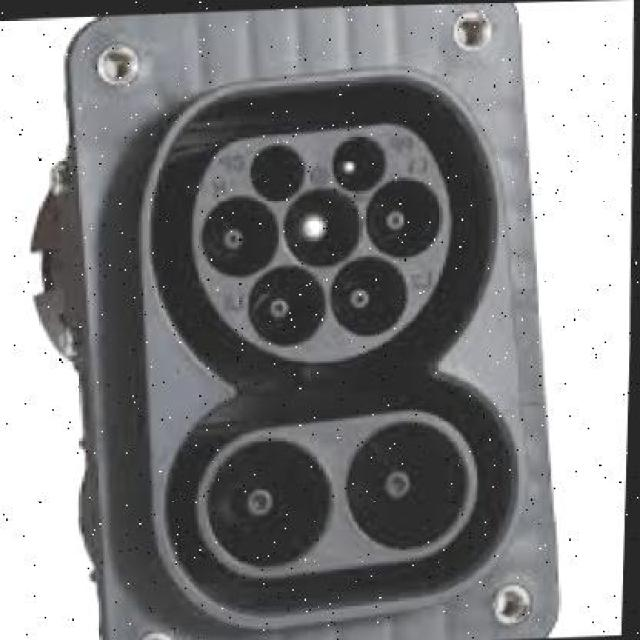CCS2: (132, 73, 524, 619)
